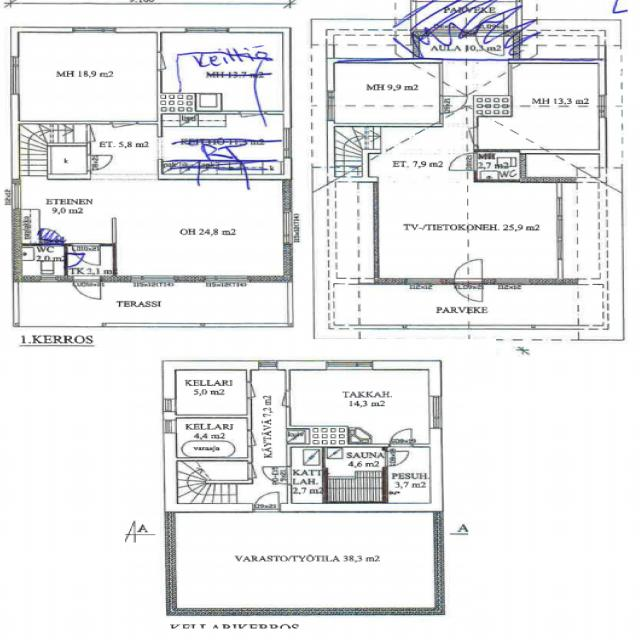door: (453, 257, 482, 286), (253, 483, 281, 513), (453, 278, 482, 306), (74, 276, 101, 302), (72, 243, 101, 266), (111, 121, 138, 142), (448, 128, 477, 146), (439, 96, 467, 113), (450, 153, 478, 170), (86, 125, 114, 141), (391, 429, 414, 448), (264, 467, 290, 483), (248, 382, 275, 397), (248, 431, 274, 446), (384, 452, 410, 467), (265, 391, 291, 406), (87, 156, 112, 171), (248, 464, 272, 478), (63, 254, 86, 267)
